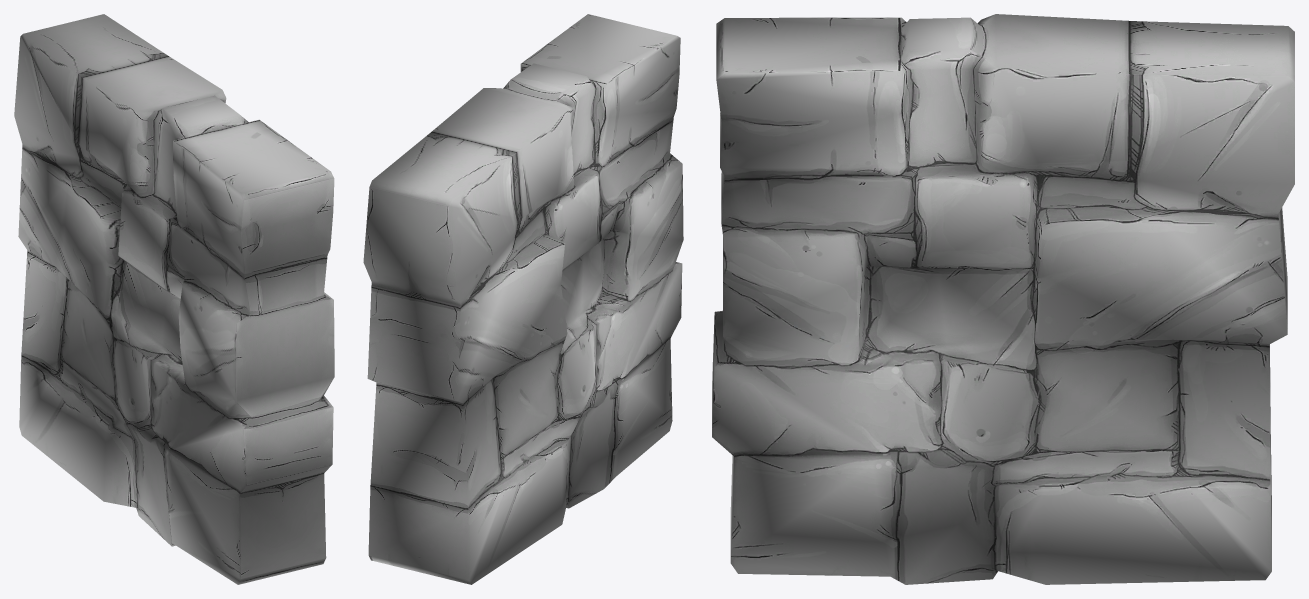
The model's file is IceBlockLarge.FBX.
3 renders of one model, left to right at view 1: azimuth 30°, elevation 25°; view 2: azimuth 150°, elevation 25°; view 3: azimuth 270°, elevation 25°, orthographic. The views are drawn at different scales.
Parts seen in each view (by area): view 1: IceBlockLarge_01; view 2: IceBlockLarge_01; view 3: IceBlockLarge_01.
Boxes of the visible parts, left/top/right/bottom form: IceBlockLarge_01: left=14, top=14, right=334, bottom=584; IceBlockLarge_01: left=363, top=14, right=683, bottom=584; IceBlockLarge_01: left=712, top=14, right=1294, bottom=584.
Bounding box in the file's own units: 153 × 535 × 537.
